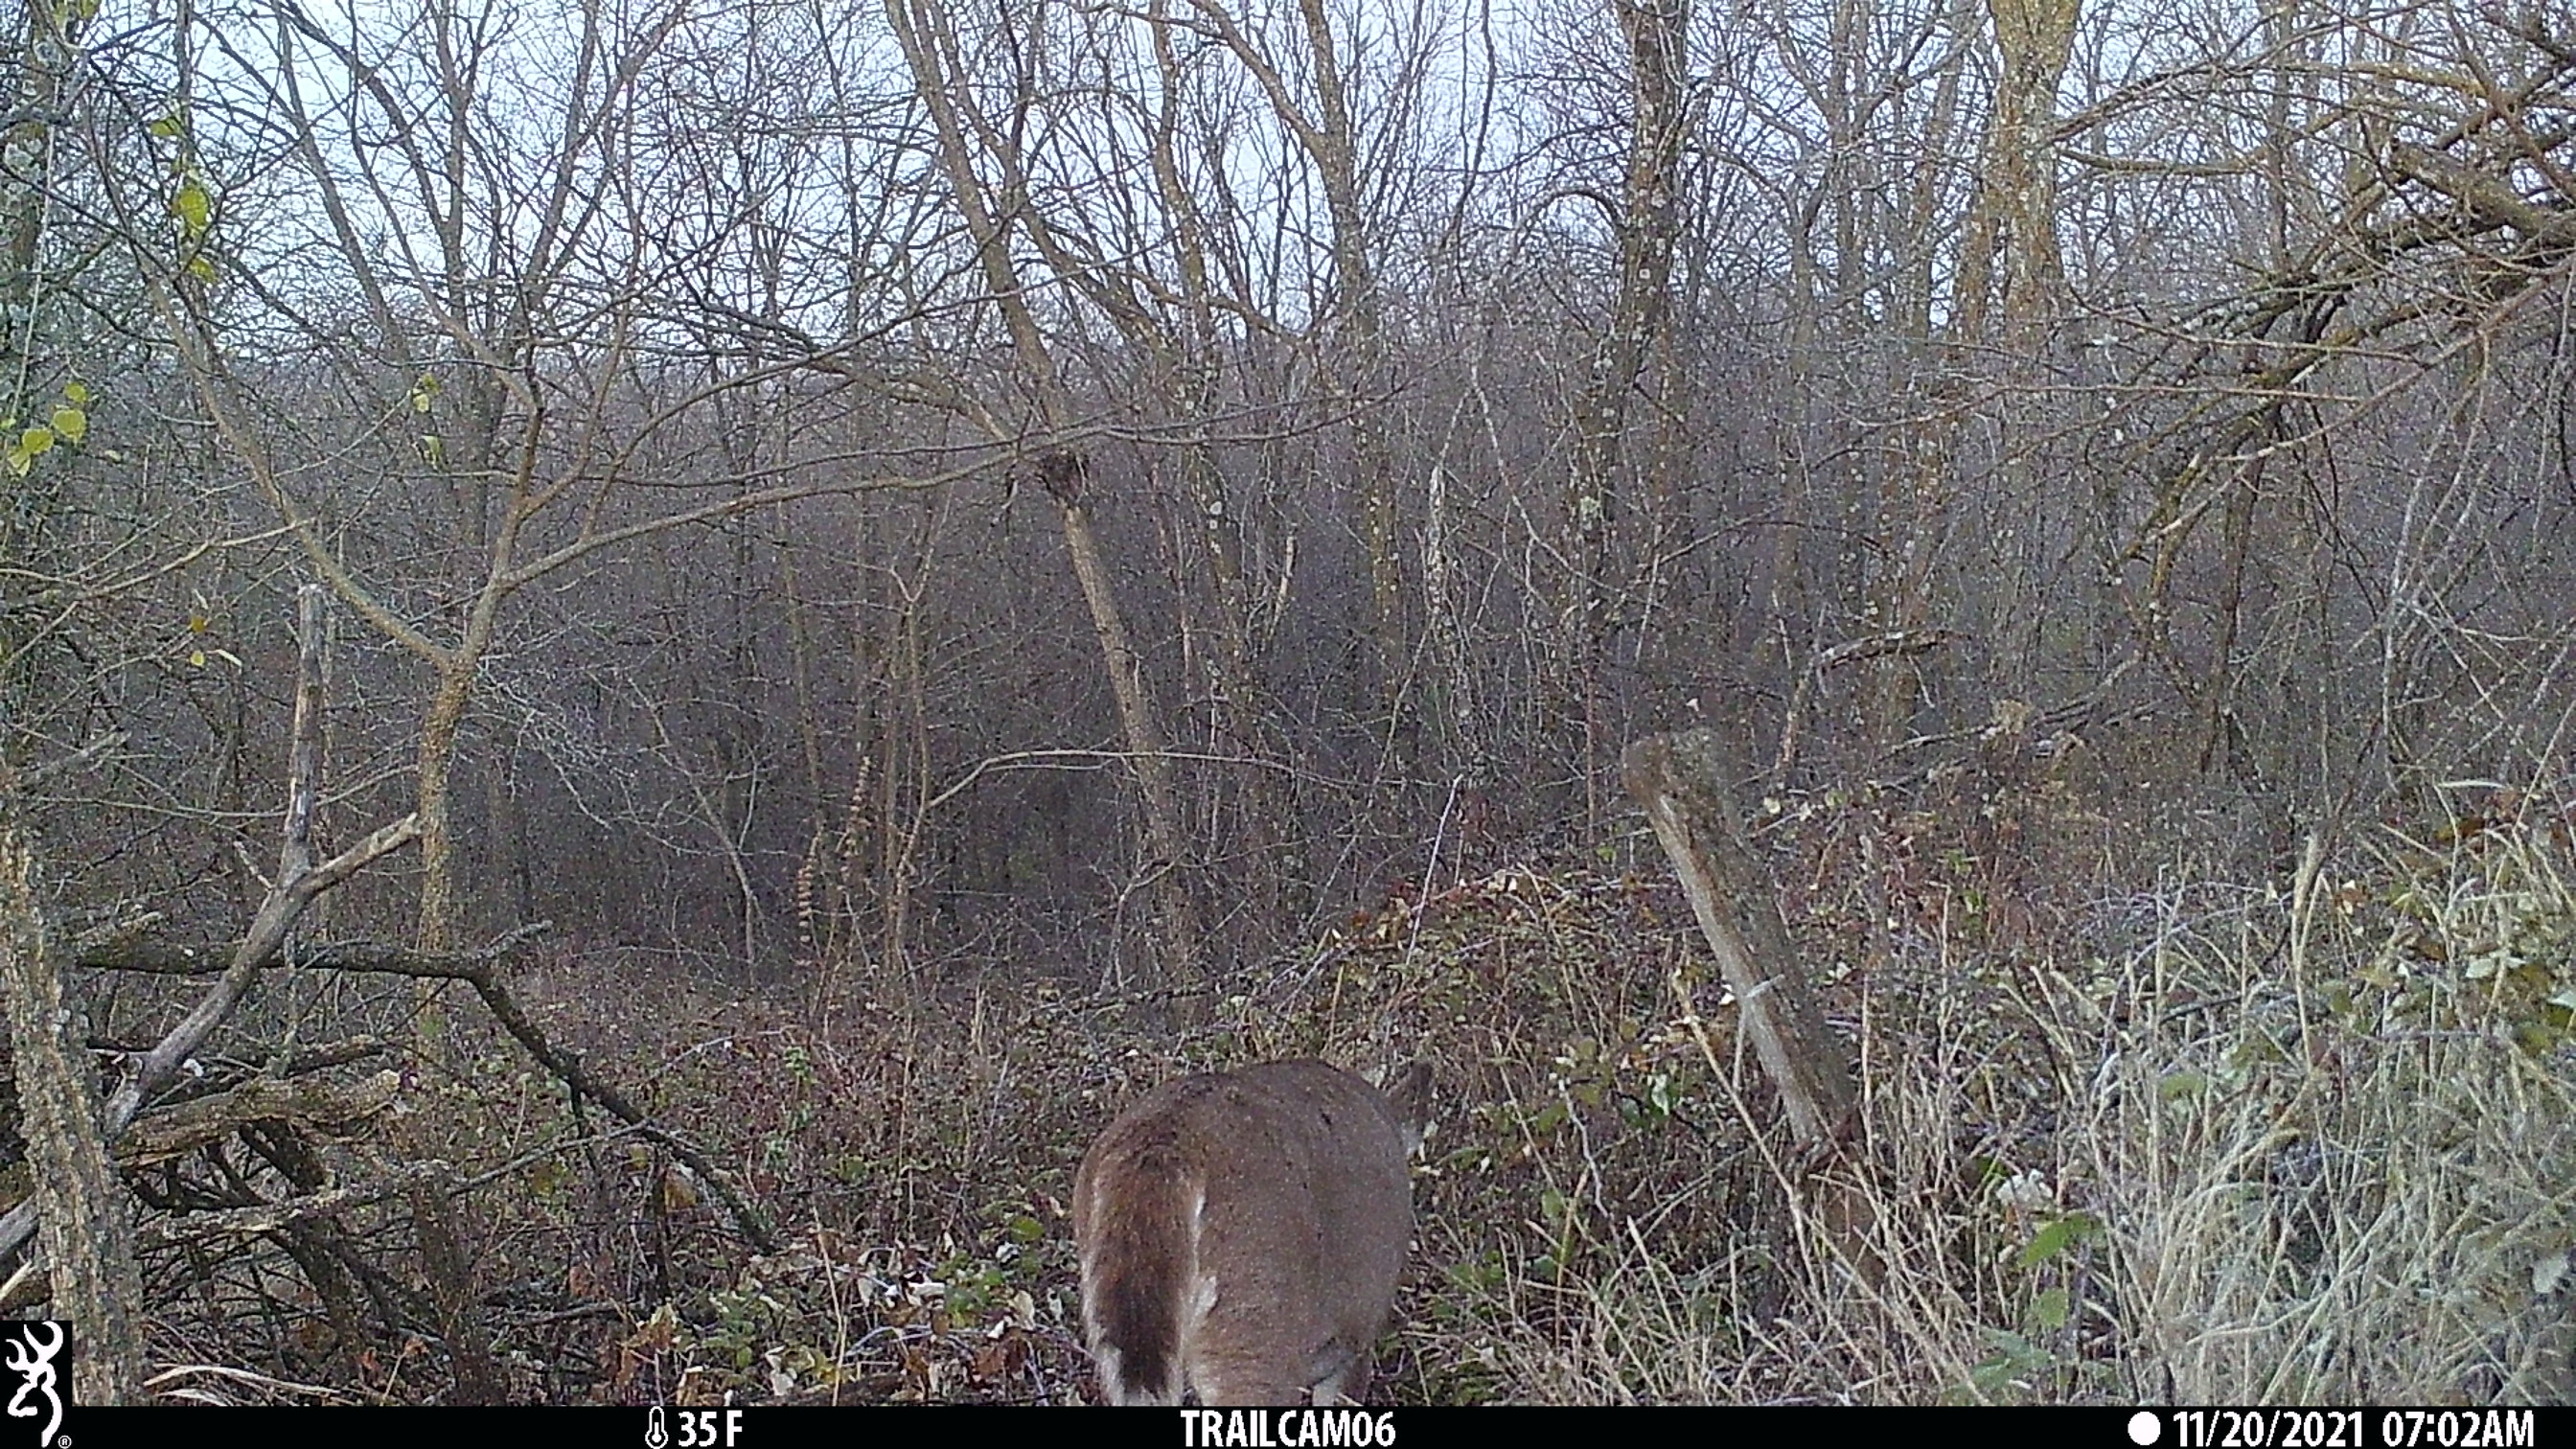Deer: (1069, 1042, 1431, 1408)
